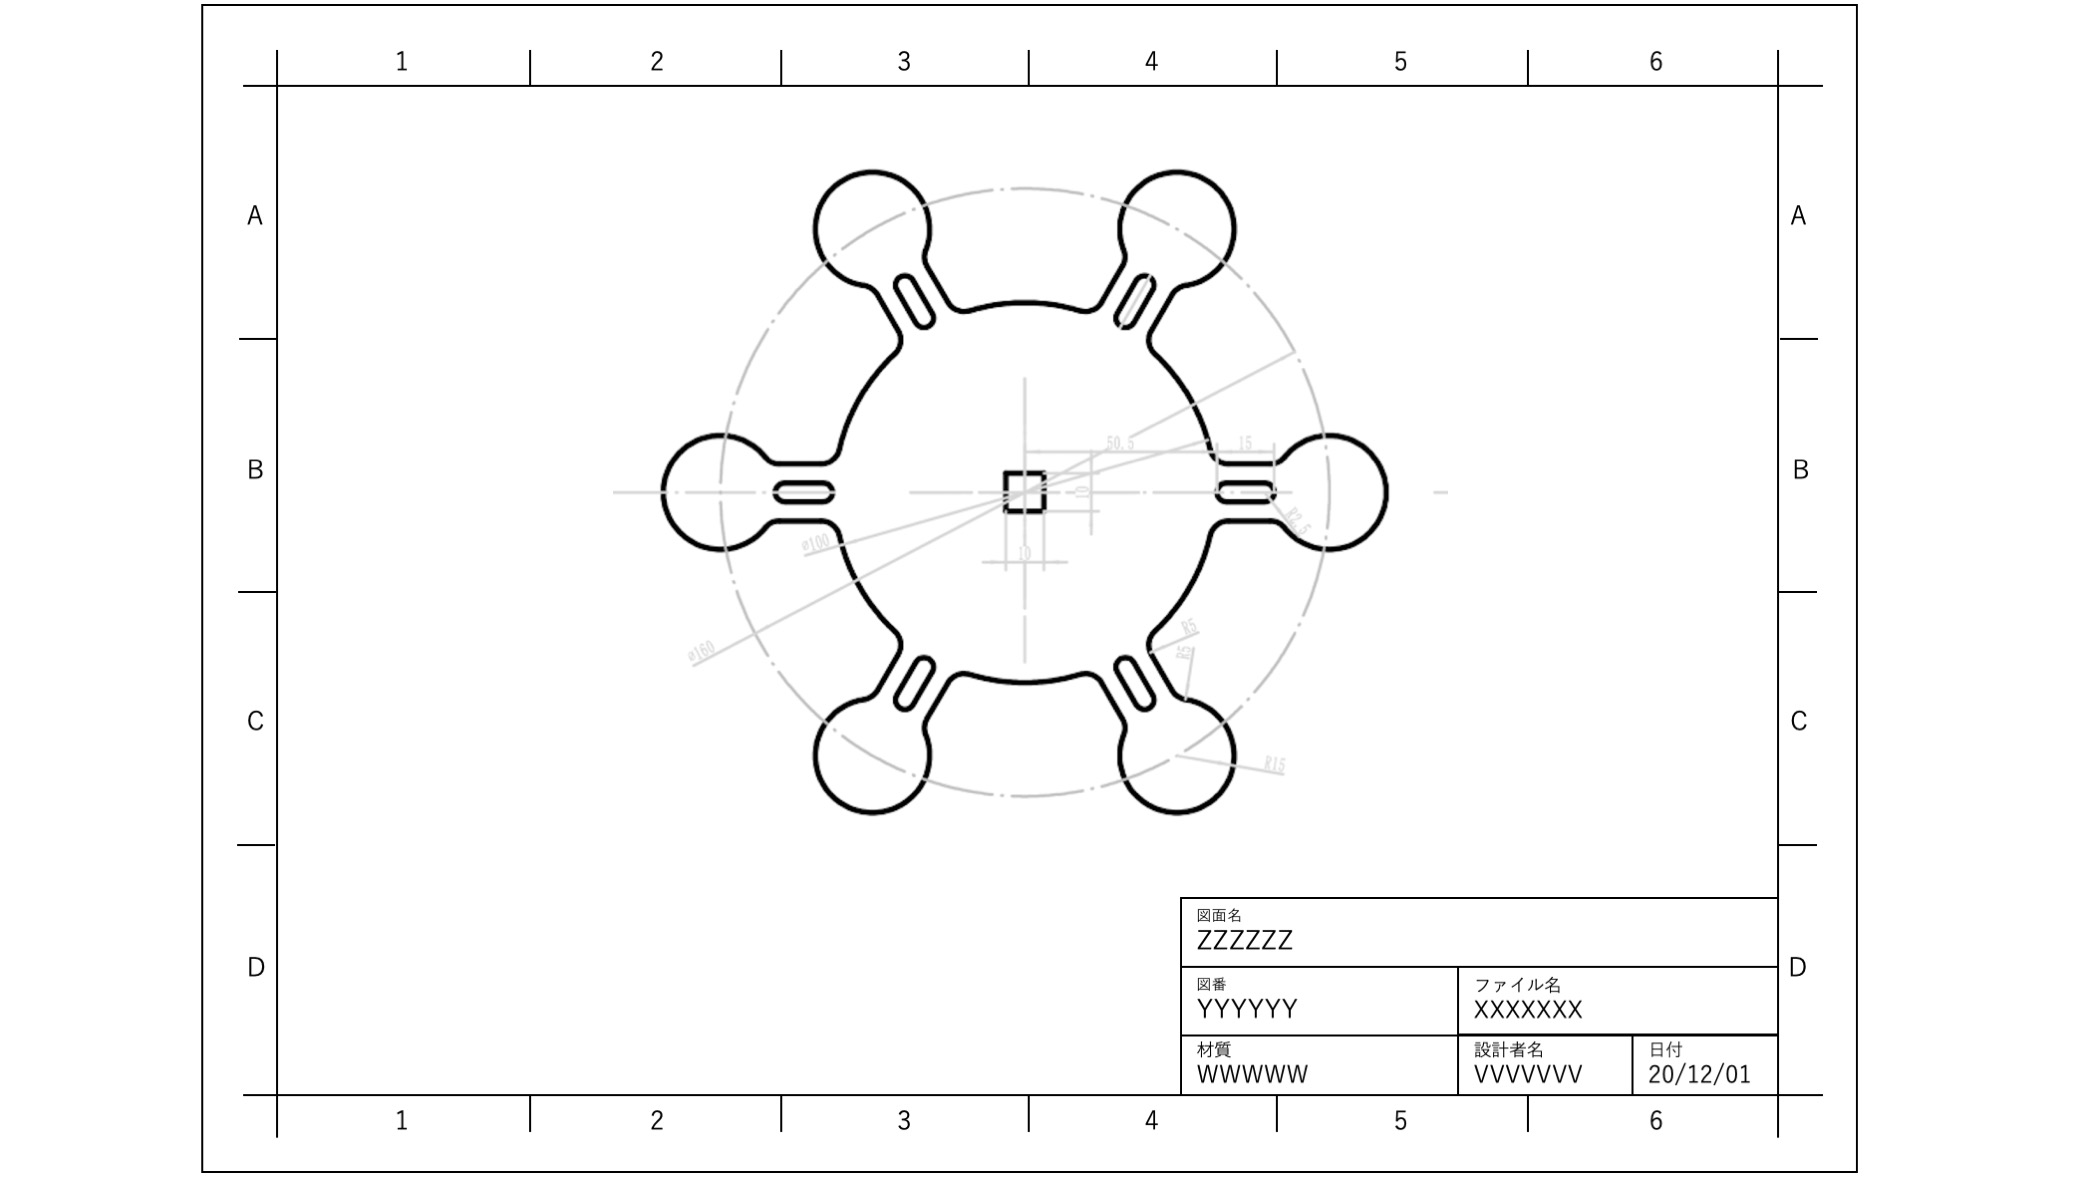rectangle: (997, 464, 1059, 516)
round_rectangle: (886, 645, 948, 720), (890, 257, 937, 336), (764, 470, 838, 516), (1108, 264, 1158, 329), (1103, 646, 1154, 709), (1217, 464, 1284, 508)
